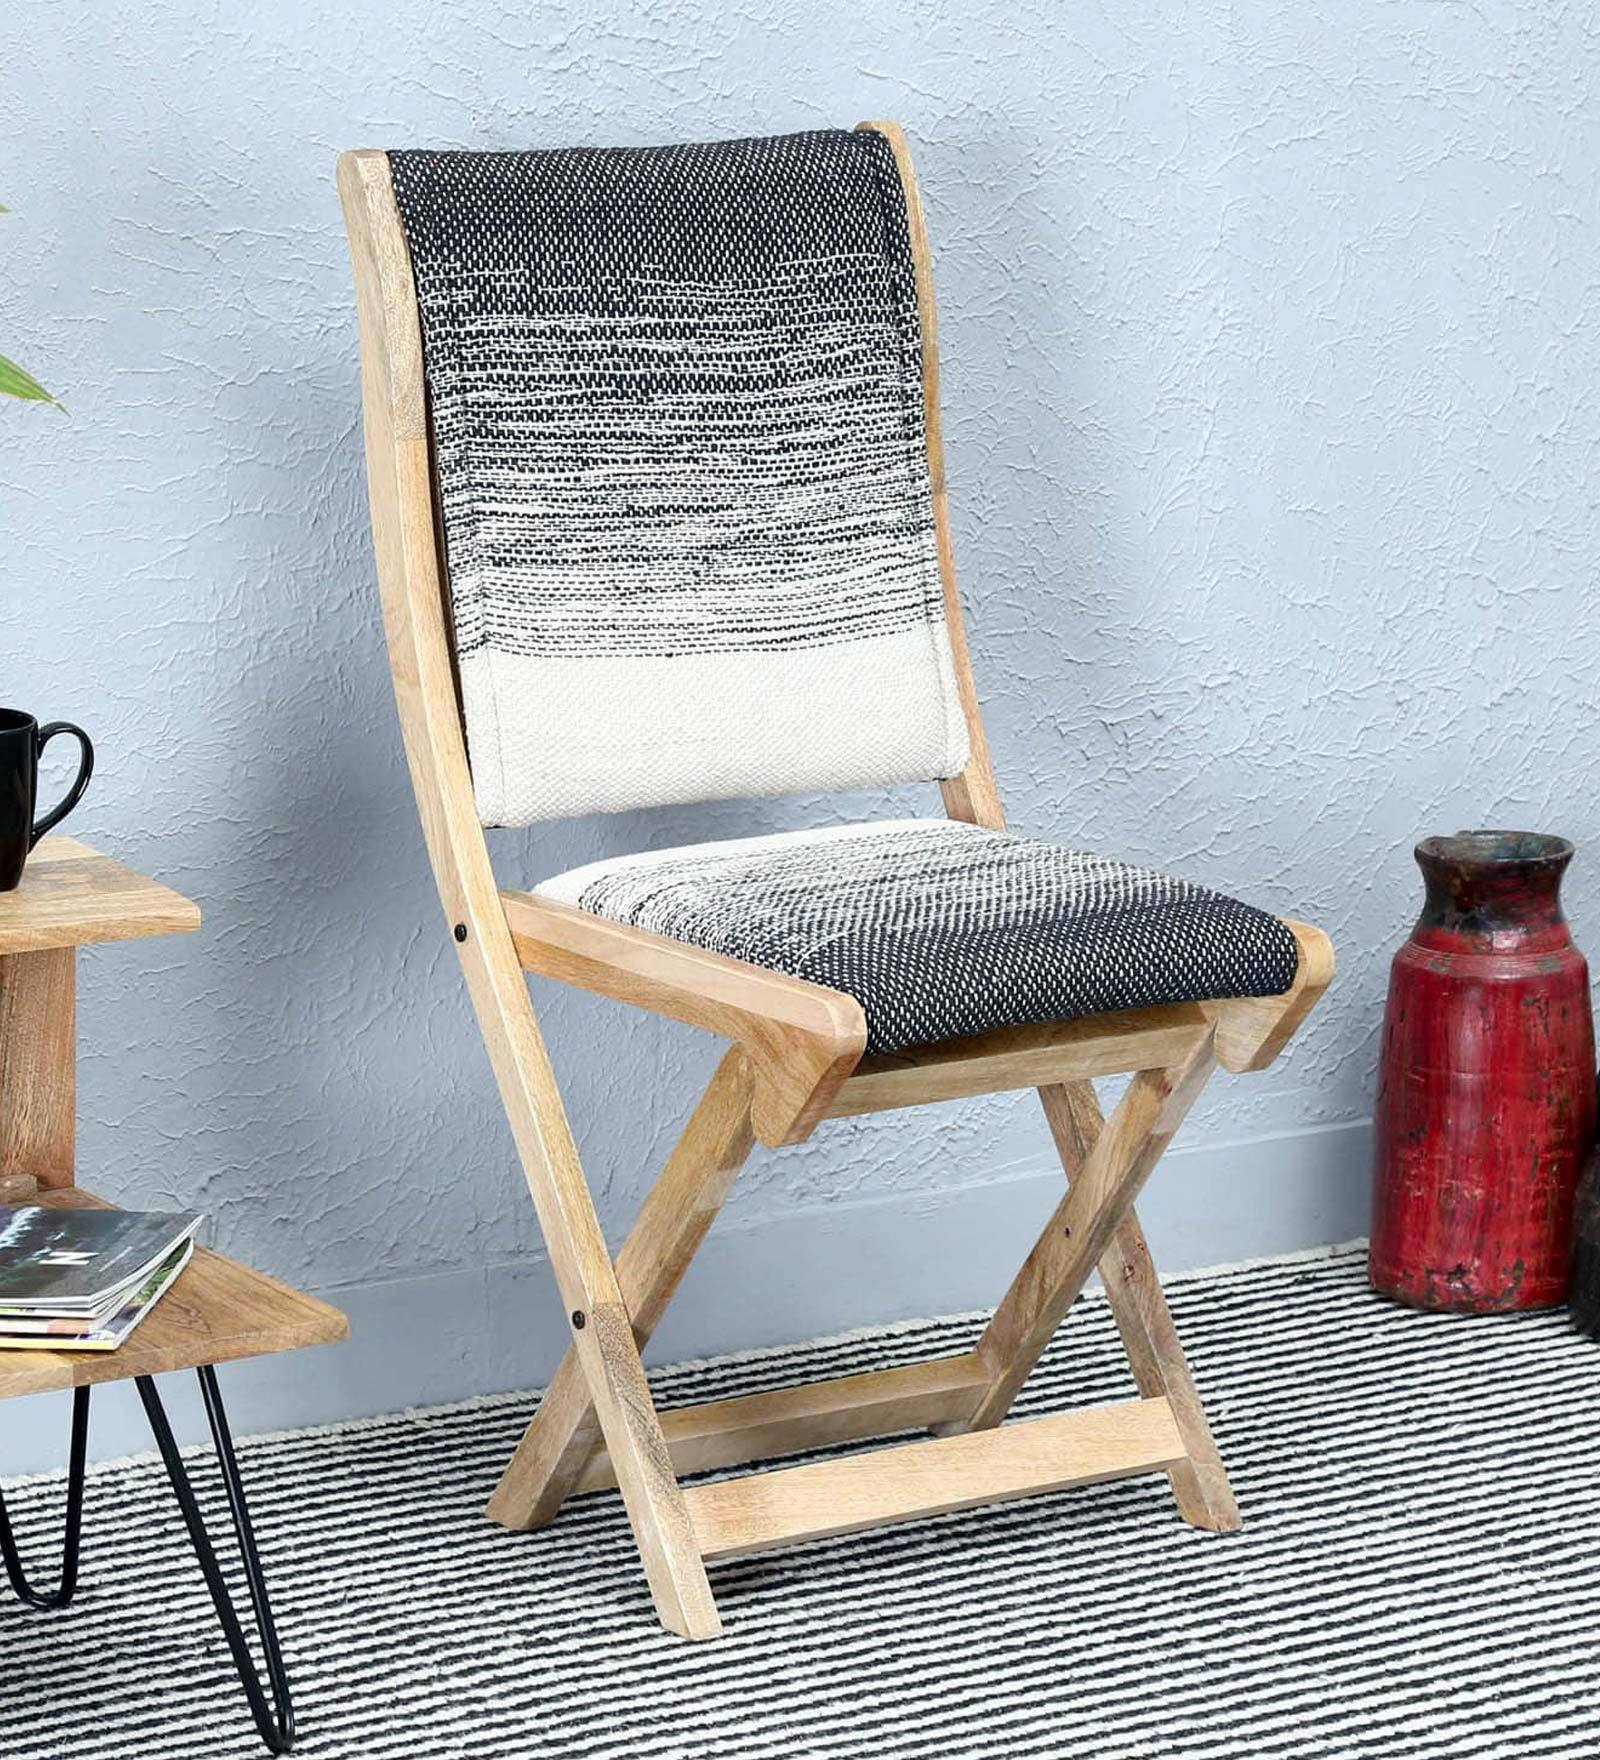Horan Folding Chair by Bohemiana: (297, 97, 1313, 1611)
